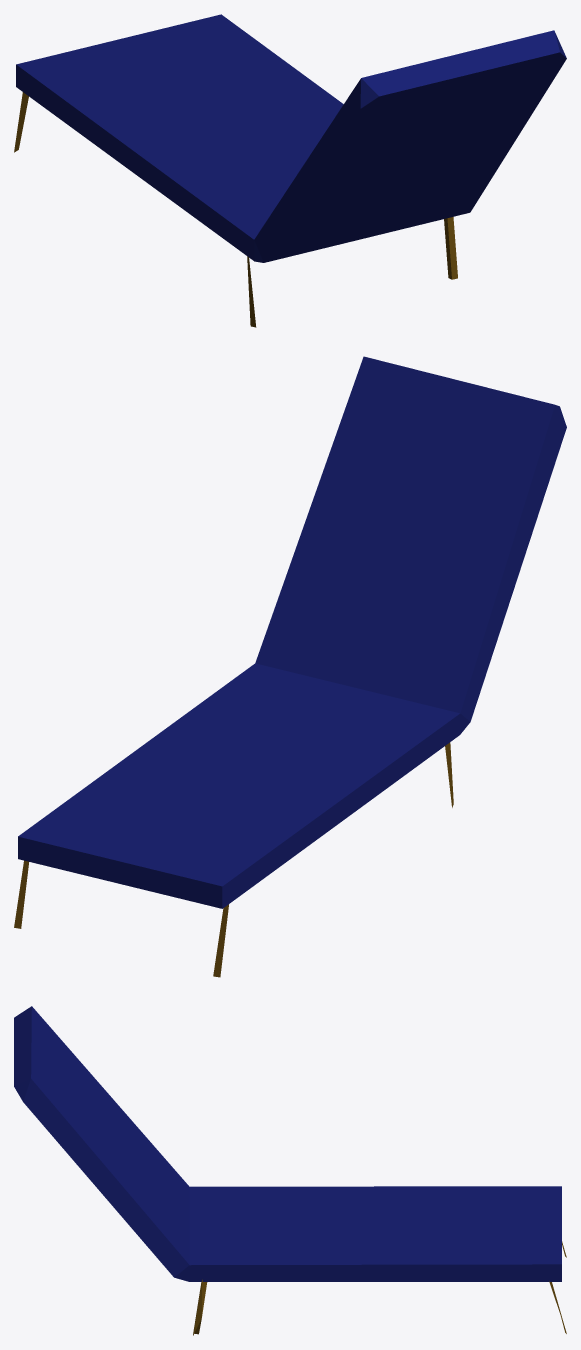
Rendered from Beach Chair.glb.
3 views of the same model, one above another, from view 1: azimuth 30°, elevation 25°; view 2: azimuth 150°, elevation 25°; view 3: azimuth 270°, elevation 25° (orthographic). The views are drawn at different scales.
Visible parts, largest first — view 1: Chair, Legs; view 2: Chair, Legs; view 3: Chair, Legs.
Part boxes in pixels (x1,y1,x2,y2): Chair: [16, 14, 566, 262]; Legs: [14, 92, 457, 327]; Chair: [18, 356, 566, 908]; Legs: [14, 742, 453, 977]; Chair: [14, 1006, 561, 1281]; Legs: [193, 1241, 566, 1335].
Size of what is drawn, in the model's own units: 0.6096 by 0.9221 by 1.81.
